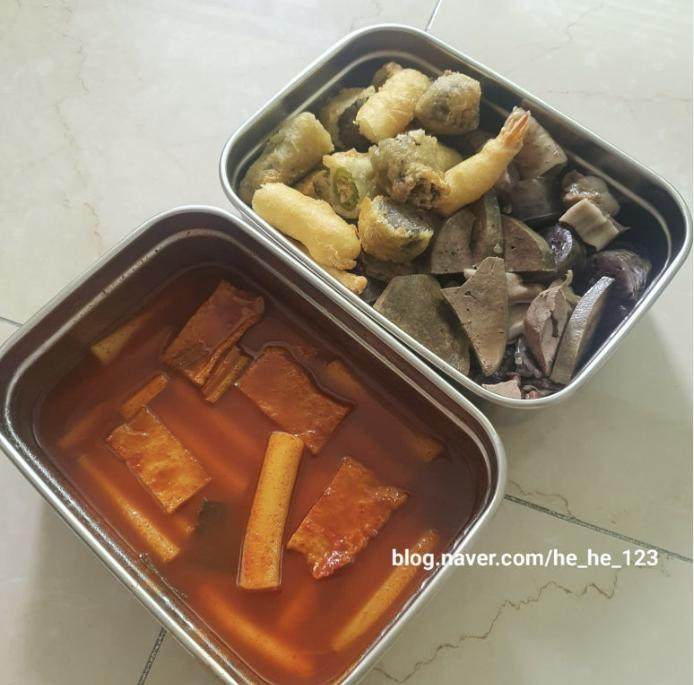Lunch Box: (0, 207, 505, 684), (220, 25, 692, 406)
